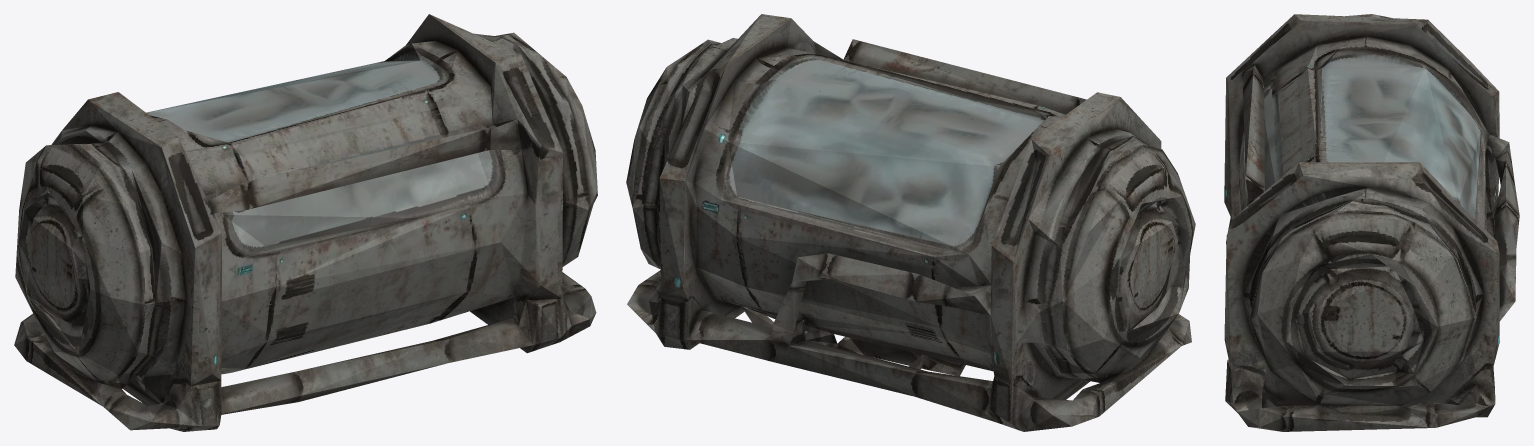
The model's file is capture.recruit_container.glb.
The picture shows the model from 3 angles, left to right: view 1: azimuth 30°, elevation 25°; view 2: azimuth 150°, elevation 25°; view 3: azimuth 270°, elevation 25°; orthographic projection. The views are drawn at different scales.
Parts seen in each view (by area): view 1: body; view 2: body; view 3: body.
Boxes of the visible parts, left/top/right/bottom form: body: left=14, top=14, right=597, bottom=431; body: left=626, top=14, right=1195, bottom=431; body: left=1224, top=14, right=1519, bottom=431.
Bounding box in the file's own units: 1.1 × 0.5776 × 0.6153.
1 material, 1 textured.
